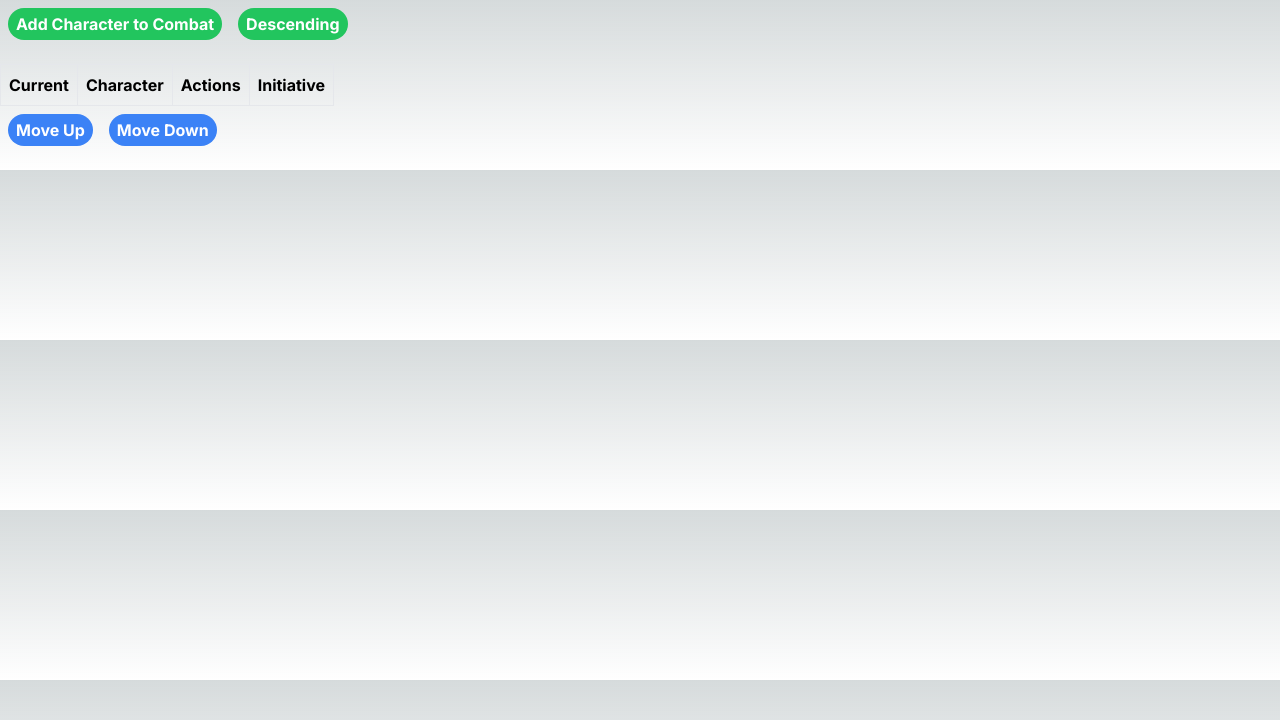
Test: CombatTracker › handles bad json format
This screenshot has width=1280, height=720.
What coordinates should you click on to do the following:
click the button "Add Character to Combat"
I would click on:
 (115, 24)
Its box is [8,8,222,40].
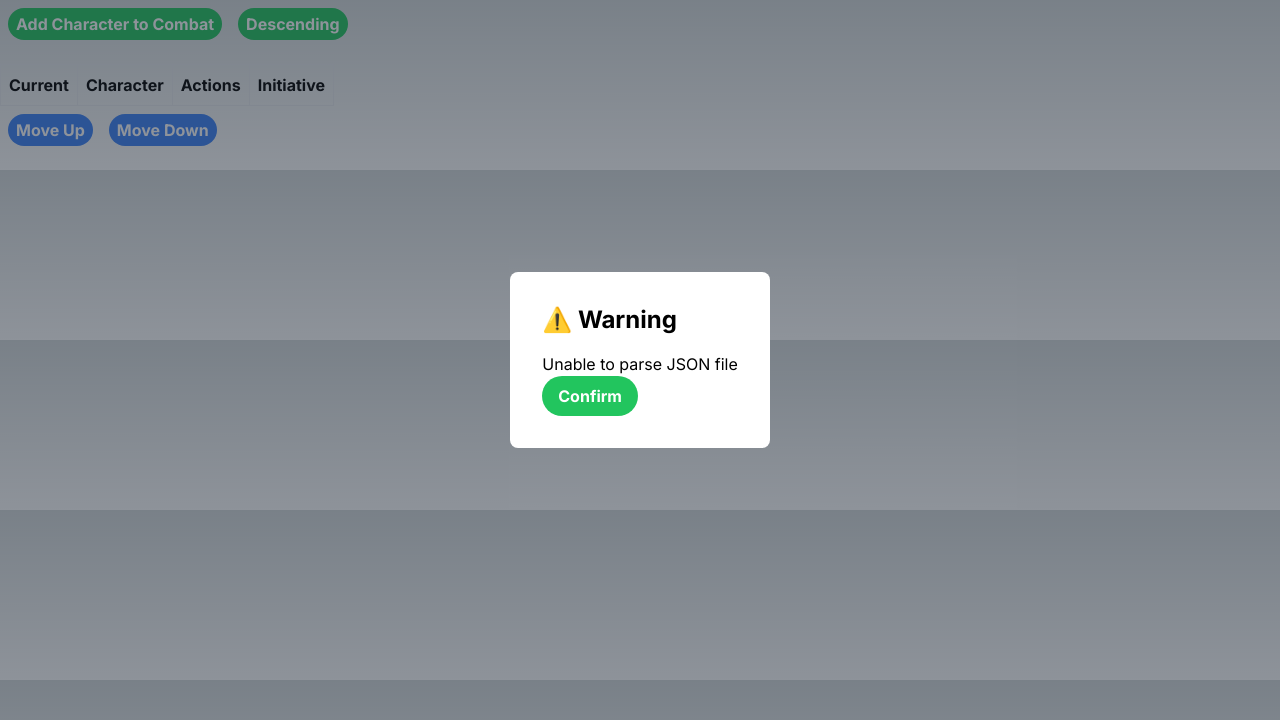
expect the text "Unable to parse JSON file" is shown: met, box [542,352,738,376]
